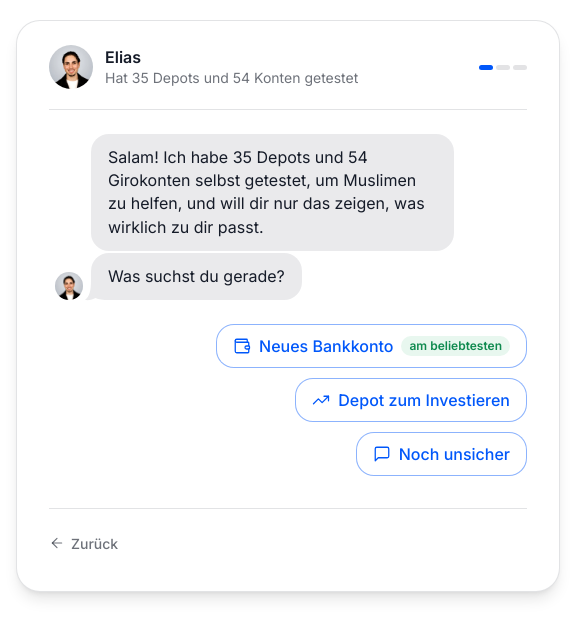
Test: Depot-Check › Fassung a: Hast du schon ein Depot (Nein), „Was ist dir wichtiger?“, „Worin willst du investieren?“, Ergebnis mit Passung als Ring, Knopf und „Passt auch gut“ m
Later steps or results of the test are not shown.
Click the button "Depot zum Investieren" at (411, 400), box [295, 378, 527, 422]
Wait 300 ms
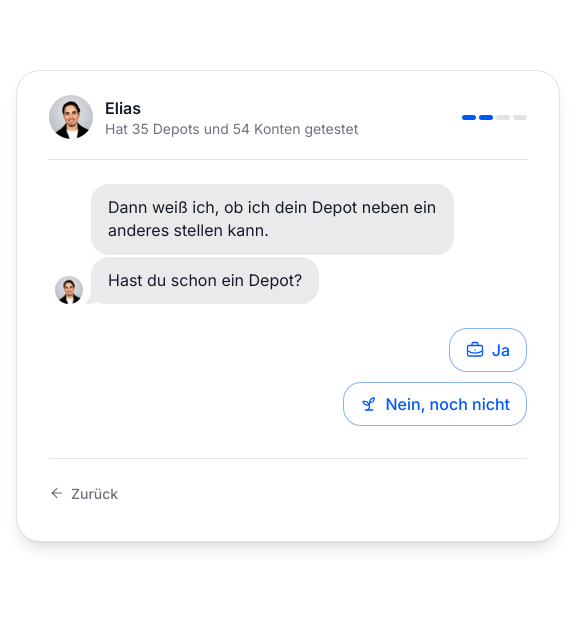
Expected: the heading reads "Hast du schon ein Depot?", [108, 270, 302, 290]
Click the button with class "hc-wahl" showing "Nein, noch nicht" at (435, 404), box [342, 382, 527, 426]
Wait 300 ms
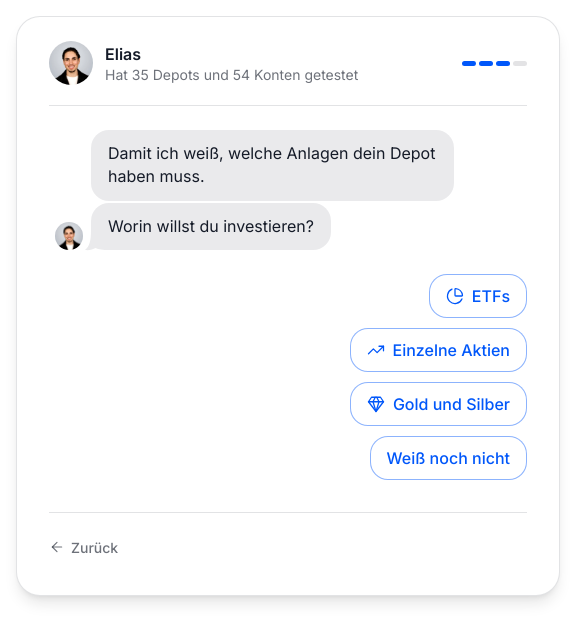
Expected: the heading reads "Worin willst du investieren?", [108, 216, 314, 236]
Click the button with class "hc-wahl" showing "Einzelne Aktien" at (438, 350), box [350, 328, 527, 372]
Wait 300 ms
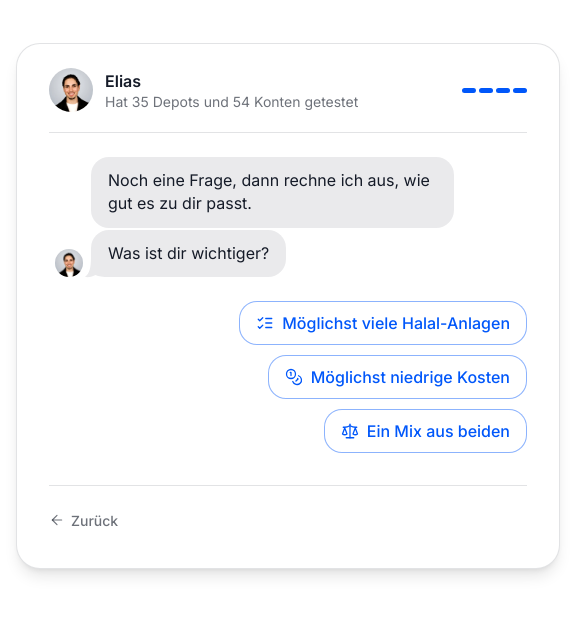
Expected: the heading reads "Was ist dir wichtiger?", [108, 243, 269, 263]
